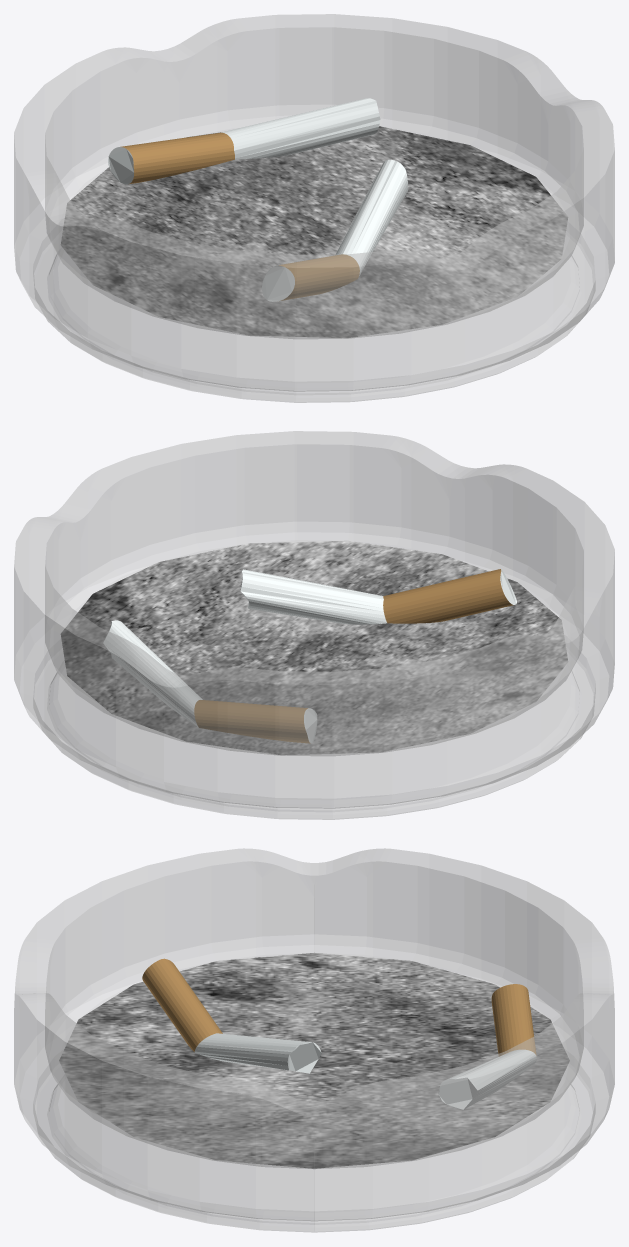
Rendered from ashtray_only.glb.
The picture shows the model from 3 angles, top to bottom: view 1: azimuth 30°, elevation 25°; view 2: azimuth 150°, elevation 25°; view 3: azimuth 270°, elevation 25°; orthographic projection.
Visible parts, largest first — view 1: Cylinder, Cylinder.011, Cylinder.010; view 2: Cylinder, Cylinder.010, Cylinder.011; view 3: Cylinder, Cylinder.010, Cylinder.011.
Boxes of the visible parts, x1,y1,x2,y2 form: Cylinder: (14, 14, 614, 402); Cylinder.011: (108, 98, 380, 184); Cylinder.010: (262, 159, 407, 301); Cylinder: (14, 431, 614, 819); Cylinder.010: (240, 569, 516, 624); Cylinder.011: (103, 620, 317, 743); Cylinder: (14, 848, 614, 1232); Cylinder.010: (142, 958, 321, 1073); Cylinder.011: (438, 984, 536, 1109).
Bounding box in the file's own units: 0.1657 × 0.0437 × 0.1657.
4 materials, 2 textured.
